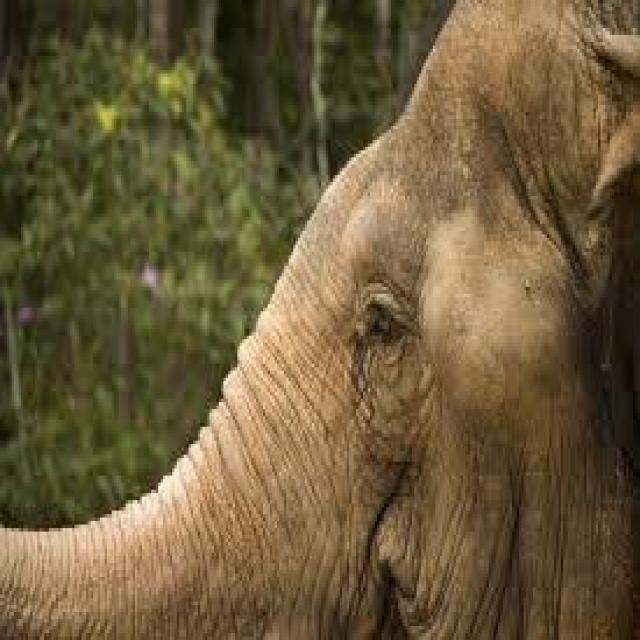Elephant: (5, 7, 638, 636)
